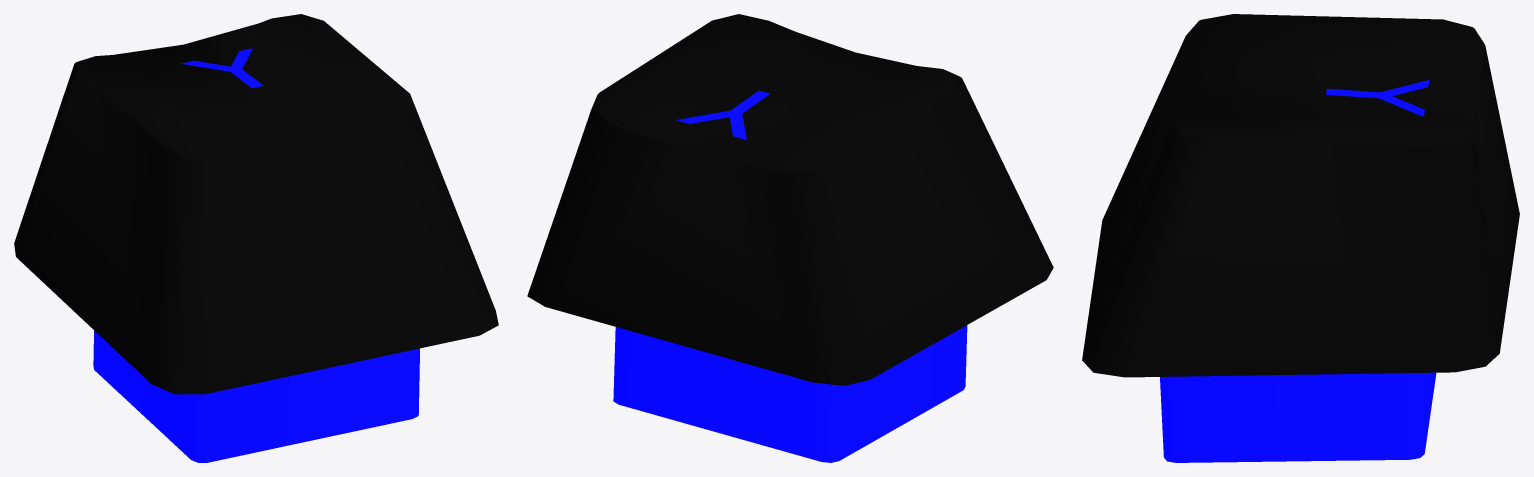
The model's file is y-CTwh5eKc.glb.
The picture shows the model from 3 angles, left to right: view 1: azimuth 30°, elevation 25°; view 2: azimuth 150°, elevation 25°; view 3: azimuth 270°, elevation 25°; orthographic projection. The views are drawn at different scales.
Parts seen in each view (by area): view 1: StudyShelf_1040; view 2: StudyShelf_1040; view 3: StudyShelf_1040.
Part boxes in pixels (x1,y1,x2,y2): StudyShelf_1040: (14,14,498,462); StudyShelf_1040: (527,14,1053,462); StudyShelf_1040: (1082,14,1519,462).
Bounding box in the file's own units: 4.35 × 3.62 × 4.35.
